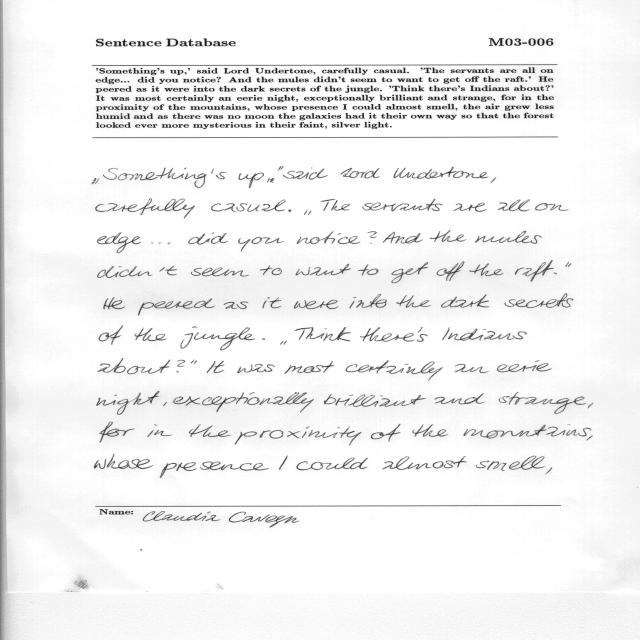word: (173, 392, 314, 413), (235, 426, 362, 446), (103, 167, 207, 188), (95, 199, 195, 219), (346, 361, 443, 381), (499, 392, 587, 414), (464, 424, 592, 439), (160, 461, 269, 478), (181, 327, 255, 351), (97, 391, 160, 415), (324, 394, 426, 407), (138, 299, 215, 316), (393, 166, 489, 179), (284, 327, 351, 345), (442, 327, 527, 341), (382, 456, 467, 470), (98, 359, 170, 375), (476, 456, 545, 471), (505, 294, 574, 308), (363, 199, 443, 211), (98, 266, 177, 278), (296, 458, 368, 471), (98, 233, 142, 254), (360, 327, 421, 342), (211, 200, 285, 212), (94, 454, 153, 469), (475, 231, 542, 244), (515, 260, 554, 282), (297, 231, 360, 244), (391, 262, 428, 283), (100, 422, 135, 443), (238, 237, 284, 252), (308, 199, 350, 215), (441, 294, 489, 308), (284, 361, 335, 374), (296, 264, 351, 276), (497, 361, 552, 372), (435, 394, 486, 405), (437, 261, 465, 281), (189, 424, 231, 437), (283, 168, 328, 180), (371, 424, 401, 442), (349, 294, 387, 308), (191, 268, 249, 277), (188, 233, 228, 245), (383, 232, 423, 244), (412, 424, 448, 437), (99, 326, 123, 345), (396, 295, 431, 308), (470, 263, 504, 276), (430, 230, 466, 242), (134, 328, 167, 341), (340, 168, 380, 178), (294, 300, 338, 309), (238, 173, 264, 188), (498, 200, 530, 212), (238, 364, 275, 373), (147, 424, 172, 437), (455, 364, 489, 373), (454, 203, 487, 212), (535, 203, 569, 211), (358, 264, 379, 276), (104, 298, 125, 310), (177, 360, 197, 372), (267, 166, 281, 183), (260, 266, 282, 276), (263, 297, 282, 308), (224, 302, 248, 309), (417, 327, 428, 342), (212, 169, 227, 179), (279, 455, 288, 470), (214, 361, 225, 373), (367, 231, 377, 244), (207, 361, 216, 373), (545, 468, 552, 475), (93, 178, 100, 184), (152, 242, 171, 244), (491, 177, 496, 183), (565, 262, 571, 267), (588, 403, 593, 409), (587, 436, 593, 441), (280, 166, 284, 170), (163, 402, 167, 406), (304, 210, 307, 215), (281, 341, 284, 345), (288, 210, 292, 212), (554, 273, 557, 275), (262, 338, 265, 340)
